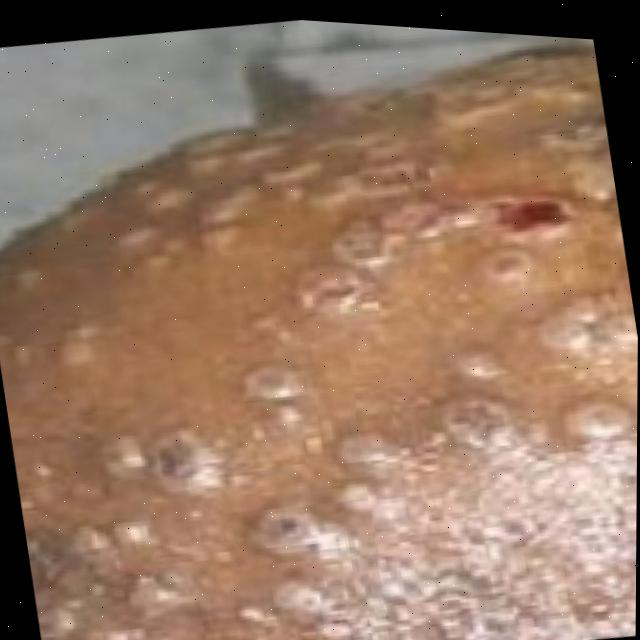Eczema: (0, 18, 640, 640)
